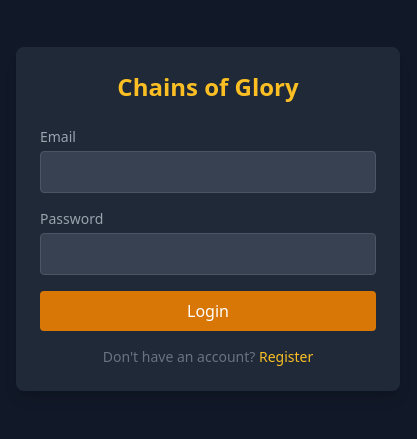
Test: LoginPage › shows error message on login failure
The image size is (417, 439).
Type "bad@test.com" into the field labelled "Email". click: (208, 172)
box: 40,151 -> 376,193
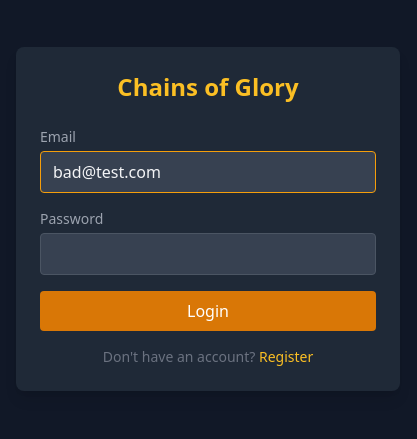
Type "wrong" into the password field labelled "Password". click: (208, 254)
box: 40,233 -> 376,275
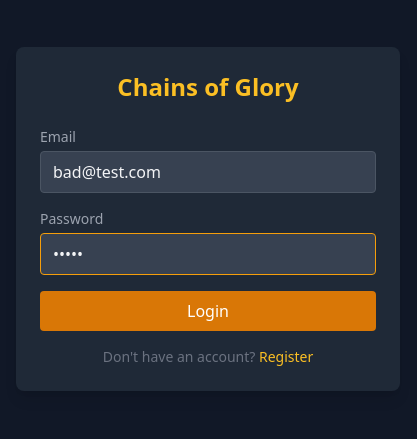
Click the button "Login". click: (208, 311)
box: 40,291 -> 376,331
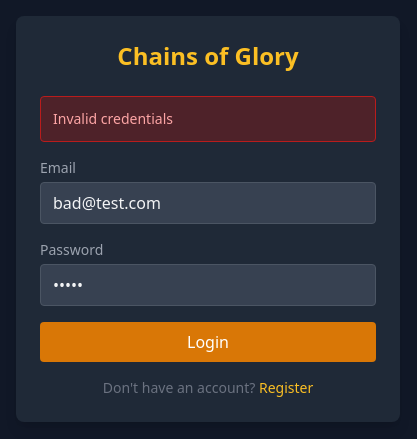
Result: the text "Invalid credentials" is shown at 40,96 -> 376,142
